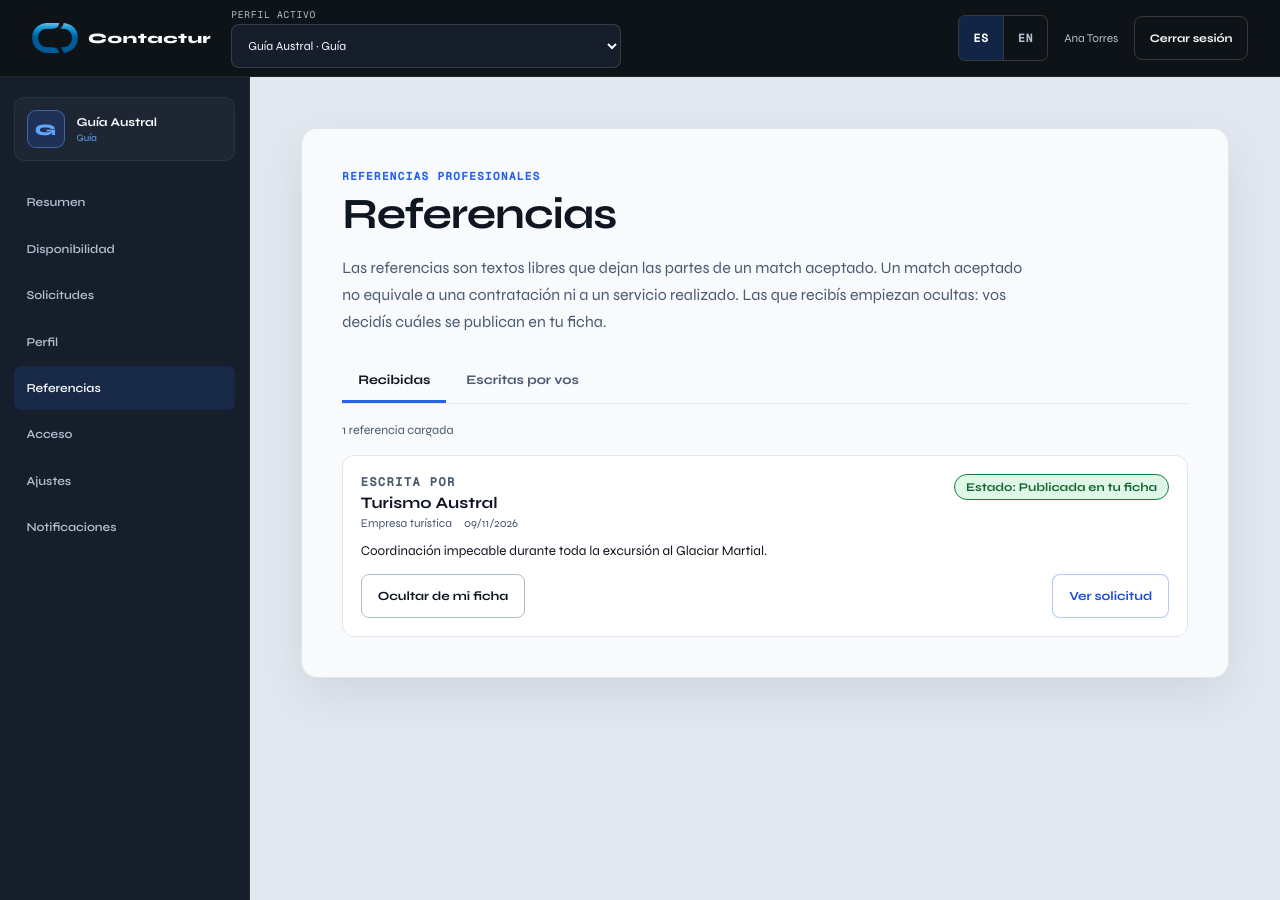
Scenario: T20 — publicar u ocultar en la ficha › revierte ante un 403 de acceso y lo explica junto a la referencia
Check: the heading "Referencias" is shown, box x1=342 y1=188 x2=616 y2=240
Click the button "Ocultar de mi ficha" at (443, 596), box x1=361 y1=574 x2=525 y2=618
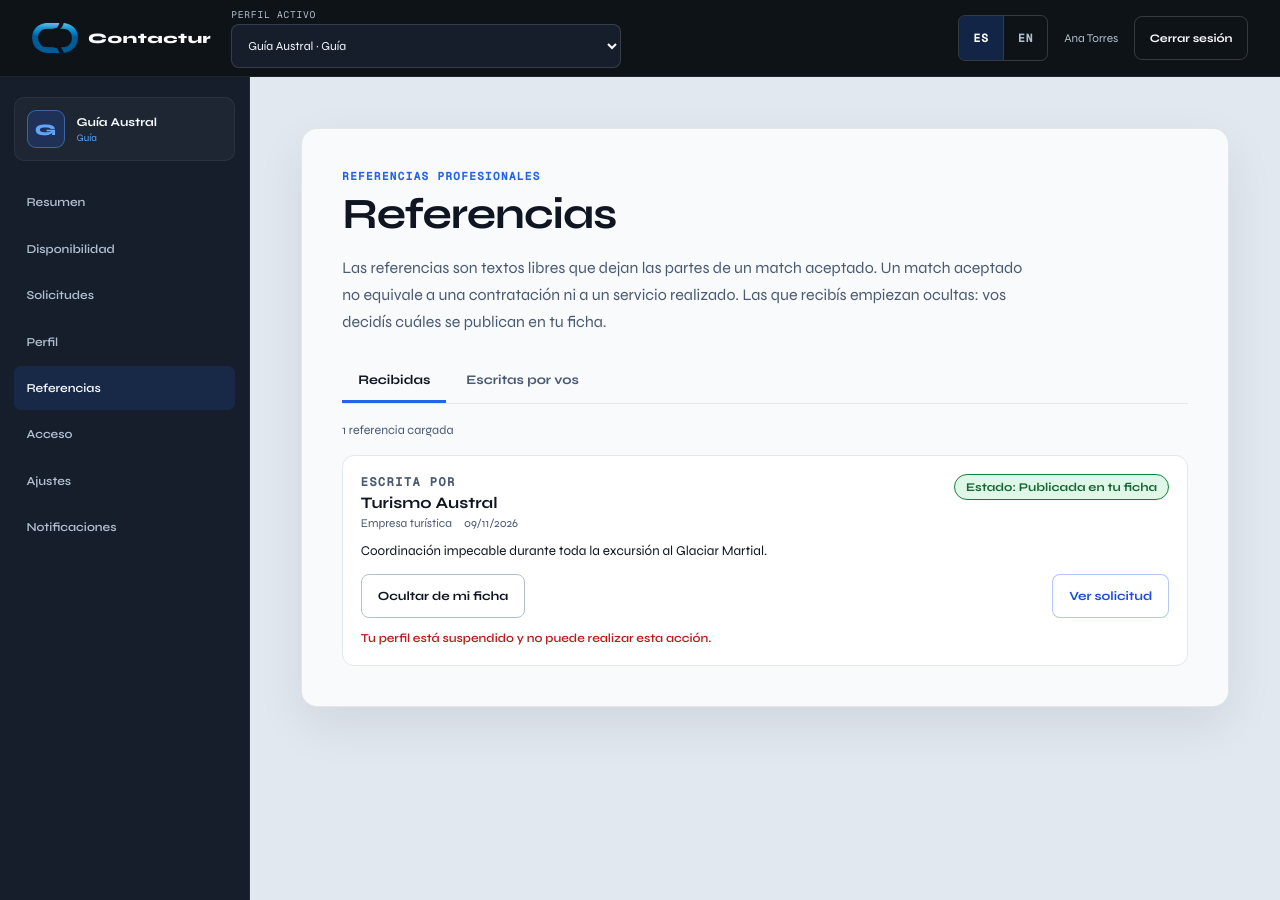
Check: the element "Turismo Austral" shows "Estado: Publicada en tu ficha", box x1=966 y1=480 x2=1157 y2=494
Check: the message reads "Tu perfil está suspendido y no puede realizar esta acción.", box x1=361 y1=631 x2=711 y2=645
